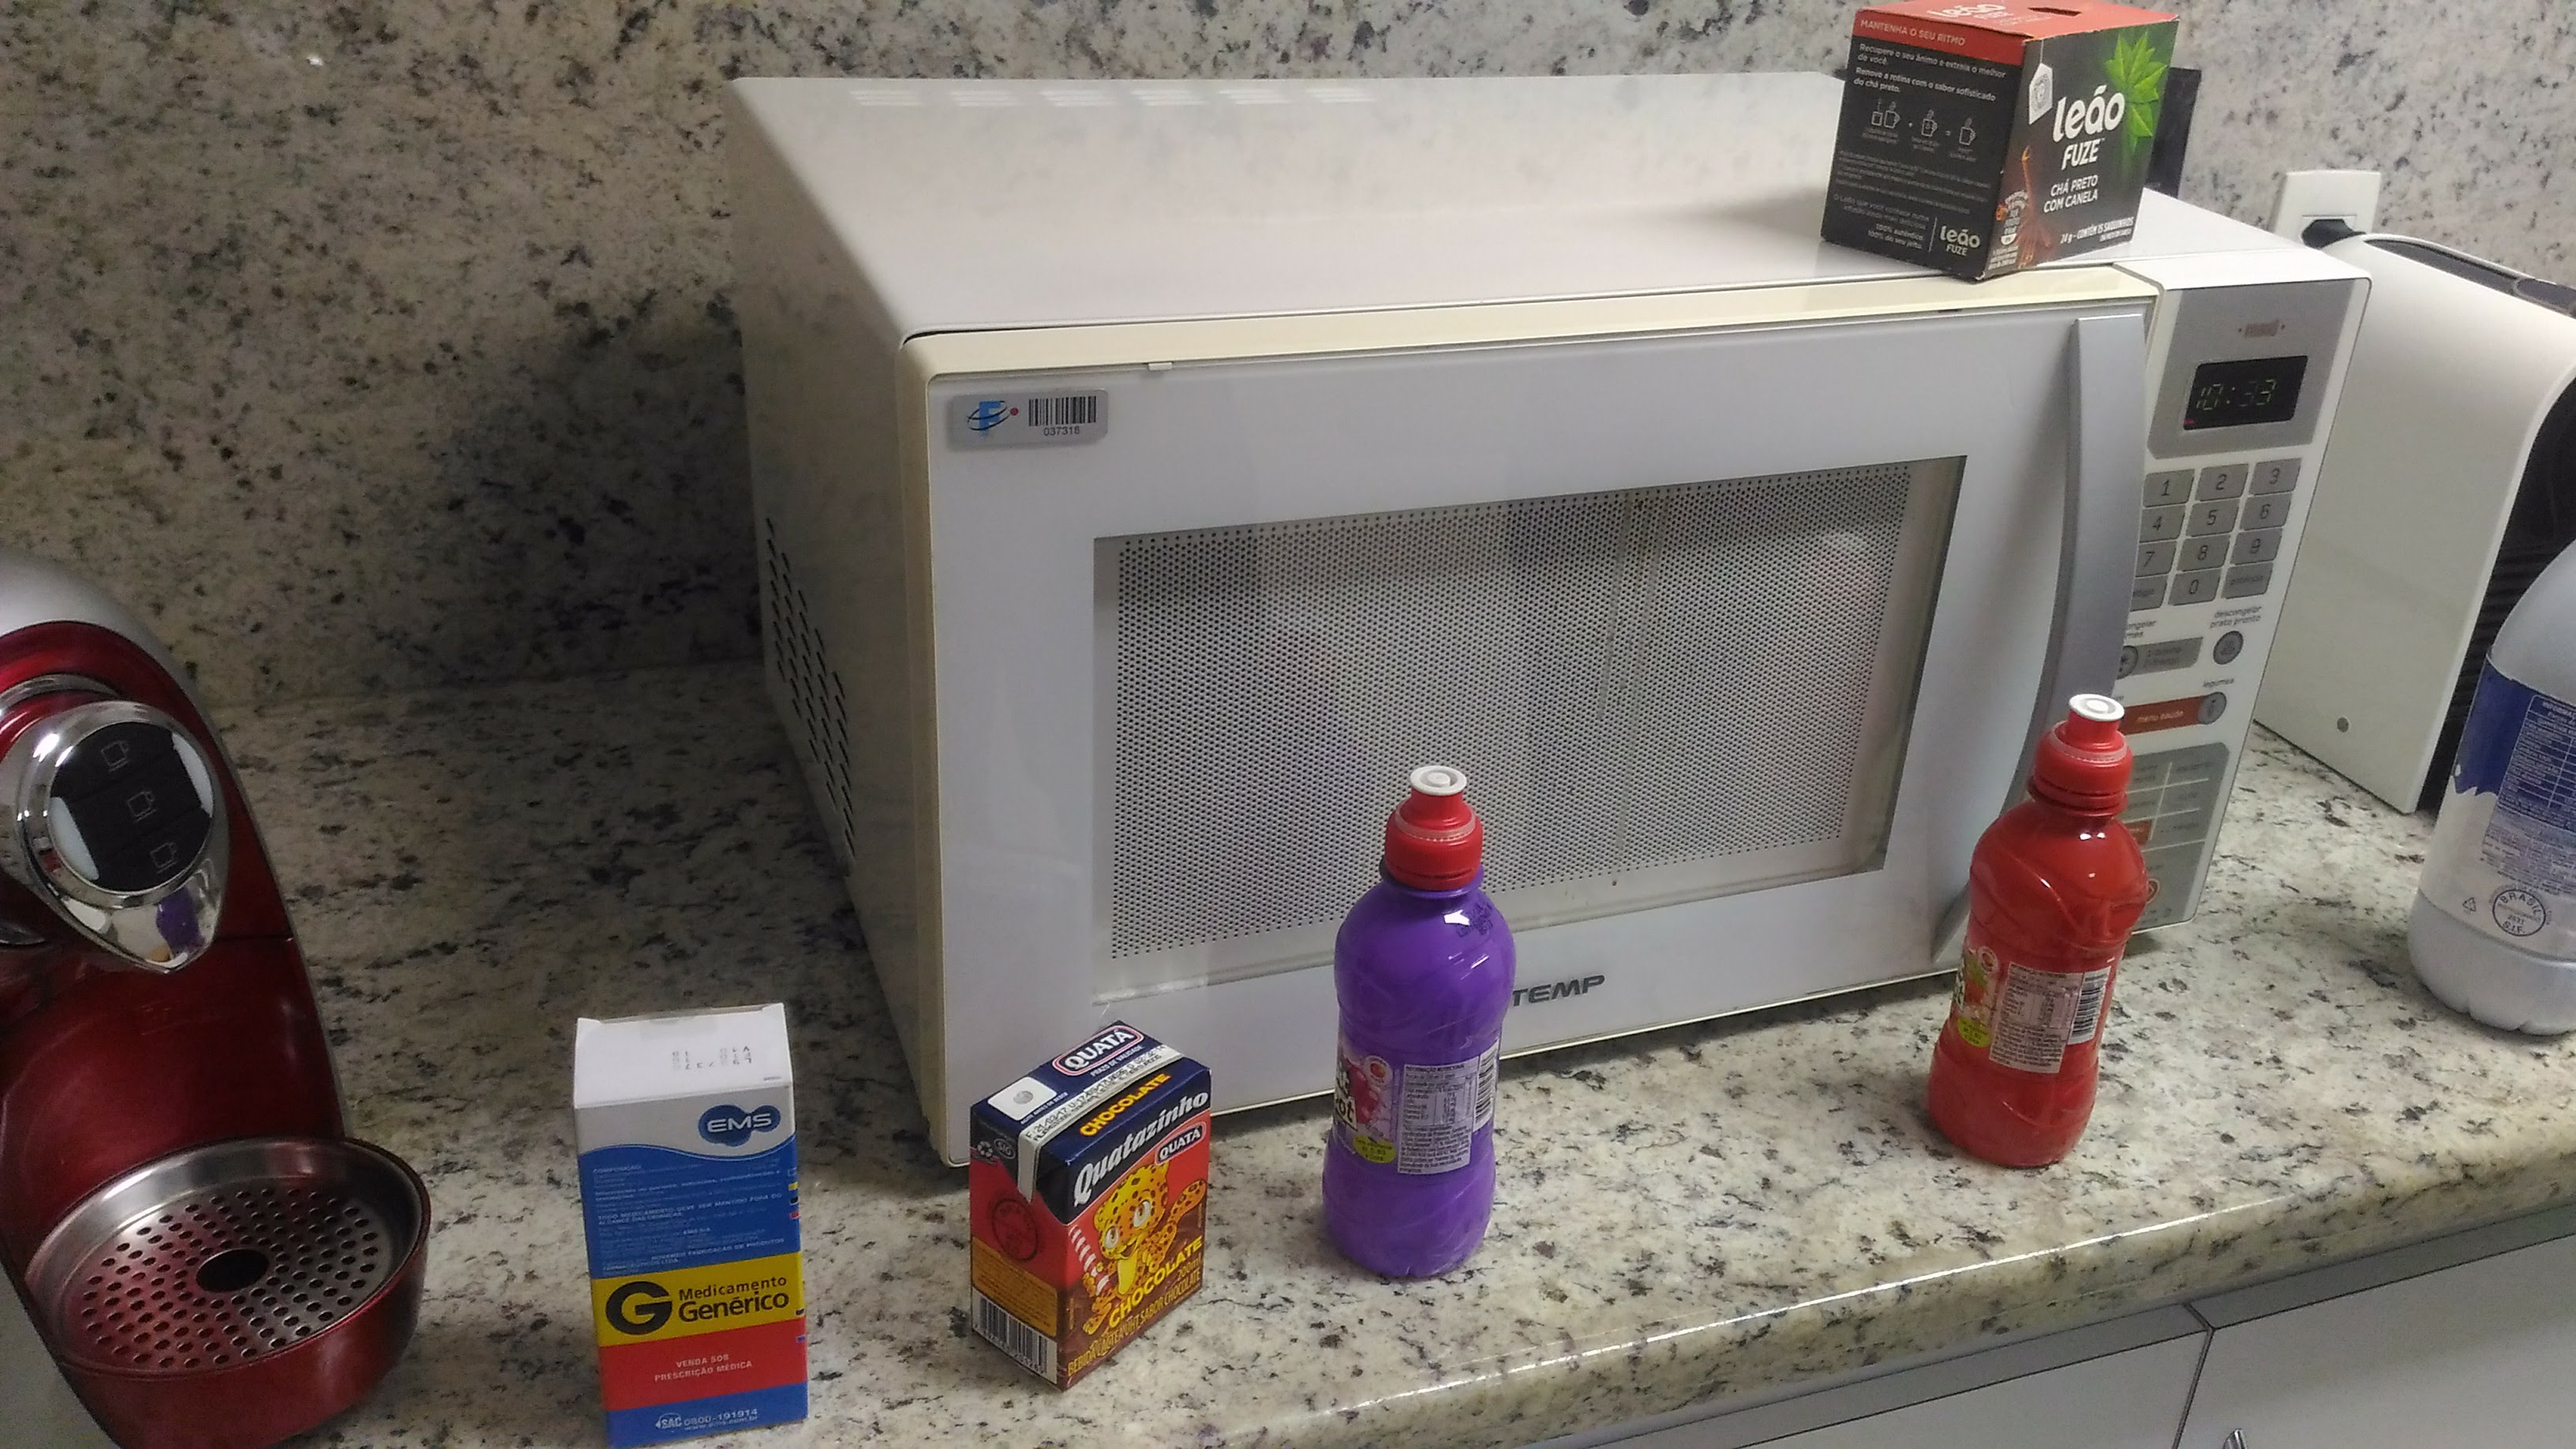chocolate_milk: (955, 1005, 1215, 1405)
medicine: (563, 991, 832, 1449)
purple_juice: (1309, 754, 1522, 1292)
red_juice: (1925, 683, 2153, 1182)
tea_box: (1813, 0, 2183, 292)
